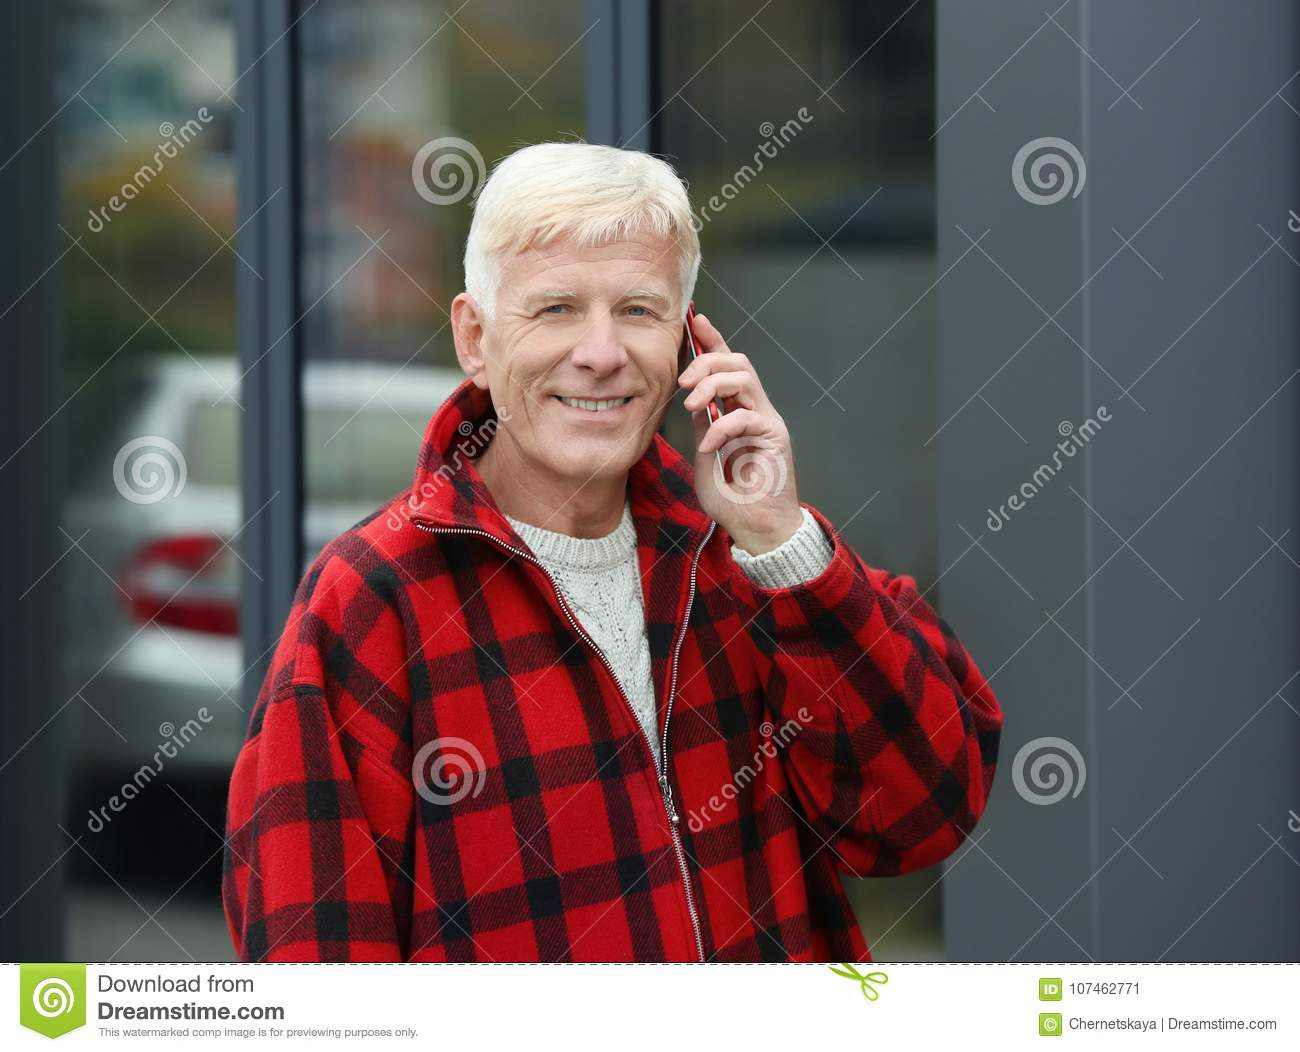phone: (671, 296, 737, 494)
talk: (511, 275, 798, 554)
